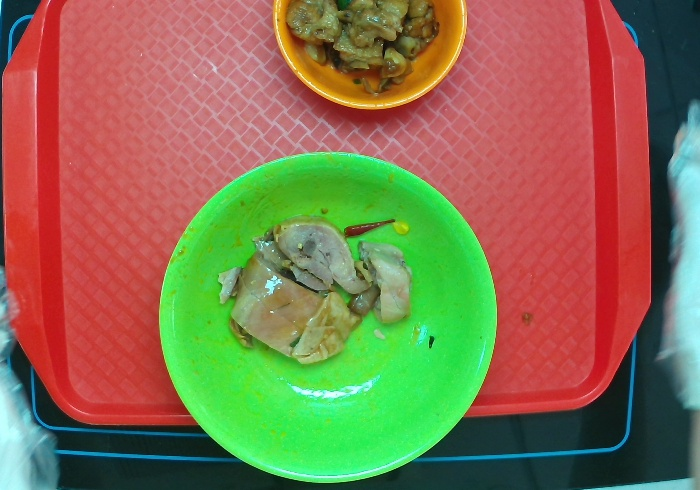YKMZ-Ju_Se_Yuan_Wan: (268, 4, 471, 114)
YKMZ-Lv_Se_Tang_Wan: (154, 149, 500, 487)
